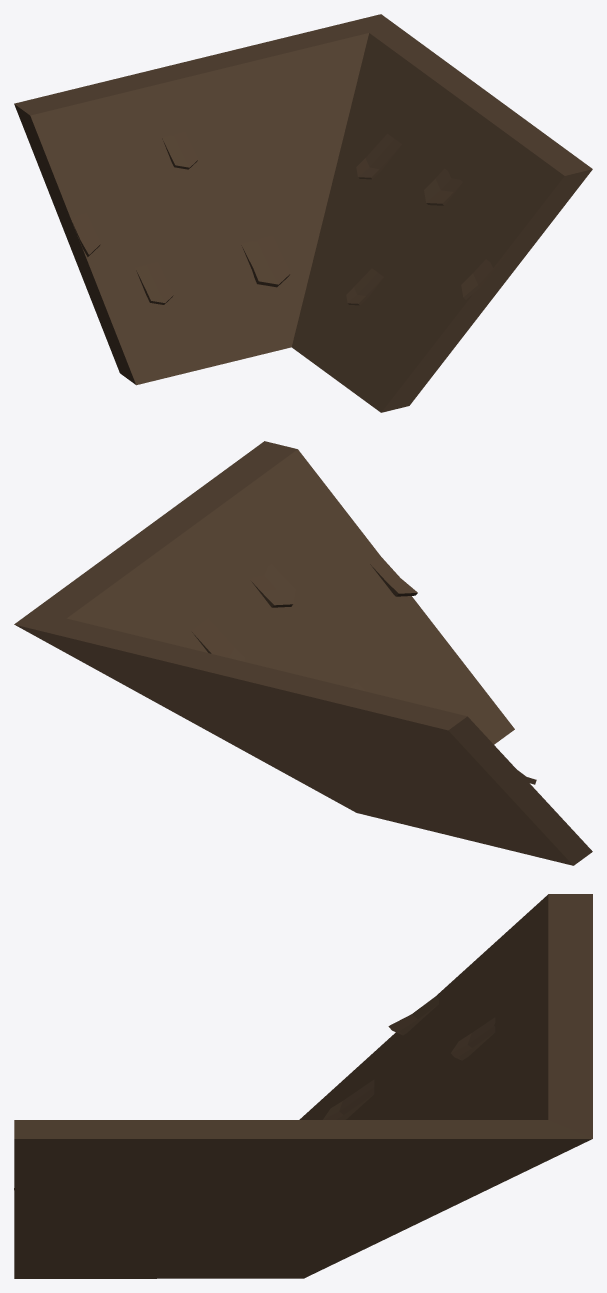
File: buildings-roof-wood-corner-in.glb
The picture shows the model from 3 angles, top to bottom: view 1: azimuth 30°, elevation 25°; view 2: azimuth 150°, elevation 25°; view 3: azimuth 270°, elevation 25°; orthographic projection. The views are drawn at different scales.
Parts seen in each view (by area): view 1: roof-wood-corner-in; view 2: roof-wood-corner-in; view 3: roof-wood-corner-in.
Part boxes in pixels (x1,y1,x2,y2): roof-wood-corner-in: [14, 14, 592, 412]; roof-wood-corner-in: [14, 441, 592, 865]; roof-wood-corner-in: [14, 894, 592, 1278].
Bounding box in the file's own units: 6 × 3 × 6.
